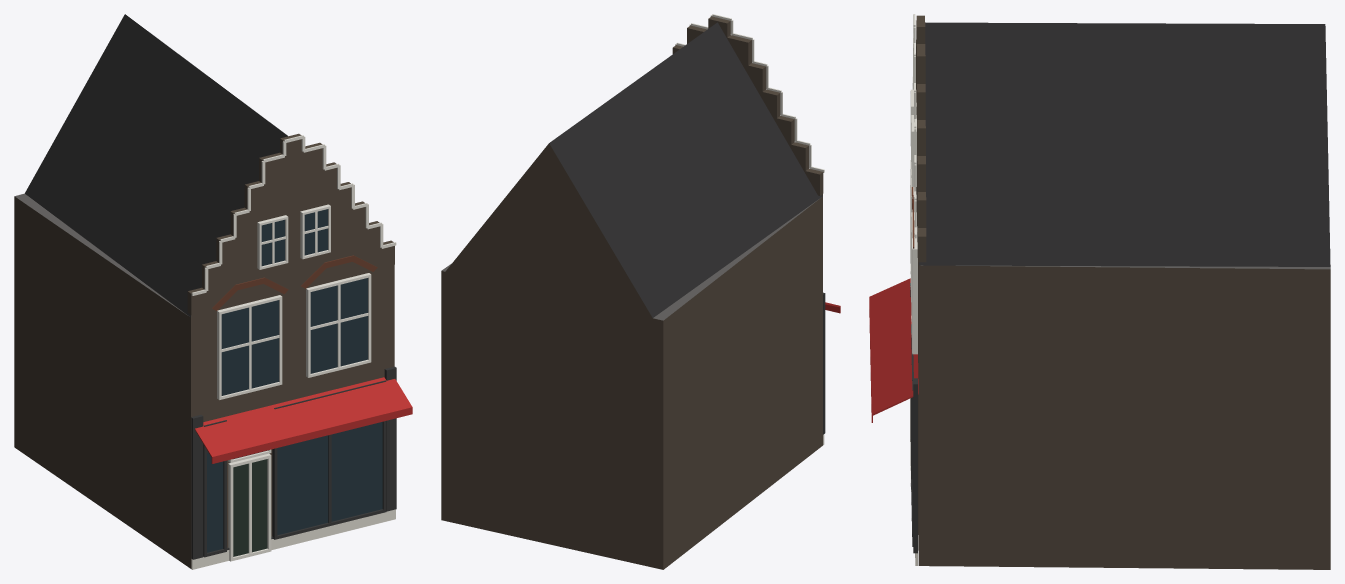
The picture shows the model from 3 angles, left to right: view 1: azimuth 30°, elevation 25°; view 2: azimuth 150°, elevation 25°; view 3: azimuth 270°, elevation 25°; orthographic projection. The views are drawn at different scales.
Parts seen in each view (by area): view 1: spec-0363100012171851; view 2: spec-0363100012171851; view 3: spec-0363100012171851.
Boxes of the visible parts, x1=… form: spec-0363100012171851: x1=14, y1=14, x2=412, y2=569; spec-0363100012171851: x1=441, y1=14, x2=840, y2=569; spec-0363100012171851: x1=869, y1=14, x2=1330, y2=569.
Size of the model in its own units: 6.43 by 11.39 by 9.79.
